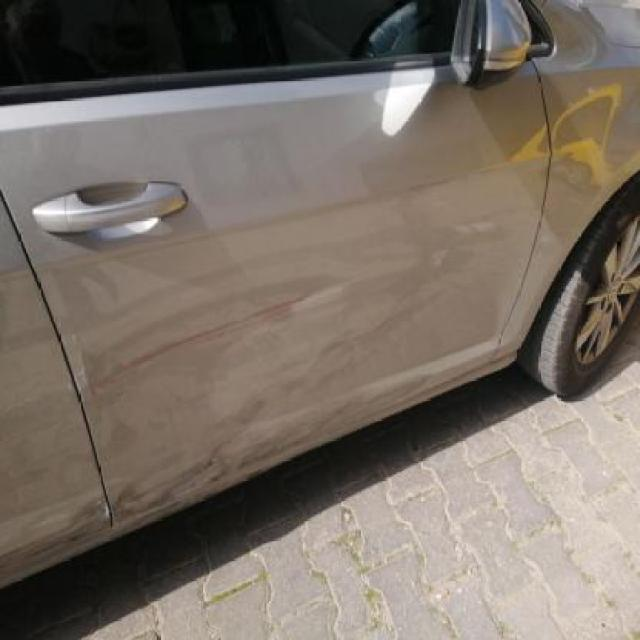car damage: (95, 235, 460, 499)
